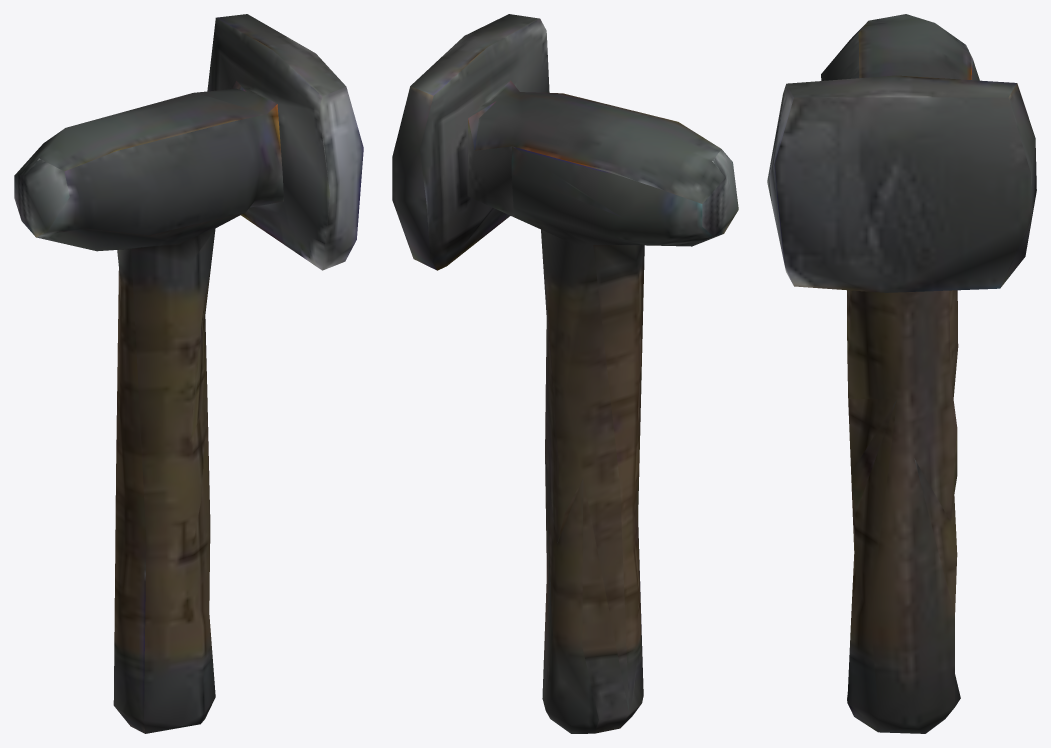
The model's file is mallet.glb.
3 renders of one model, left to right at view 1: azimuth 30°, elevation 25°; view 2: azimuth 150°, elevation 25°; view 3: azimuth 270°, elevation 25°, orthographic. The views are drawn at different scales.
Parts seen in each view (by area): view 1: mallet.001; view 2: mallet.001; view 3: mallet.001.
Part boxes in pixels (x1=…): mallet.001: x1=14, y1=14, x2=363, y2=733; mallet.001: x1=392, y1=14, x2=738, y2=733; mallet.001: x1=767, y1=14, x2=1036, y2=733.
Bounding box in the file's own units: 0.133 × 0.2883 × 0.1007.
Materials: 1 (1 with a texture image).
